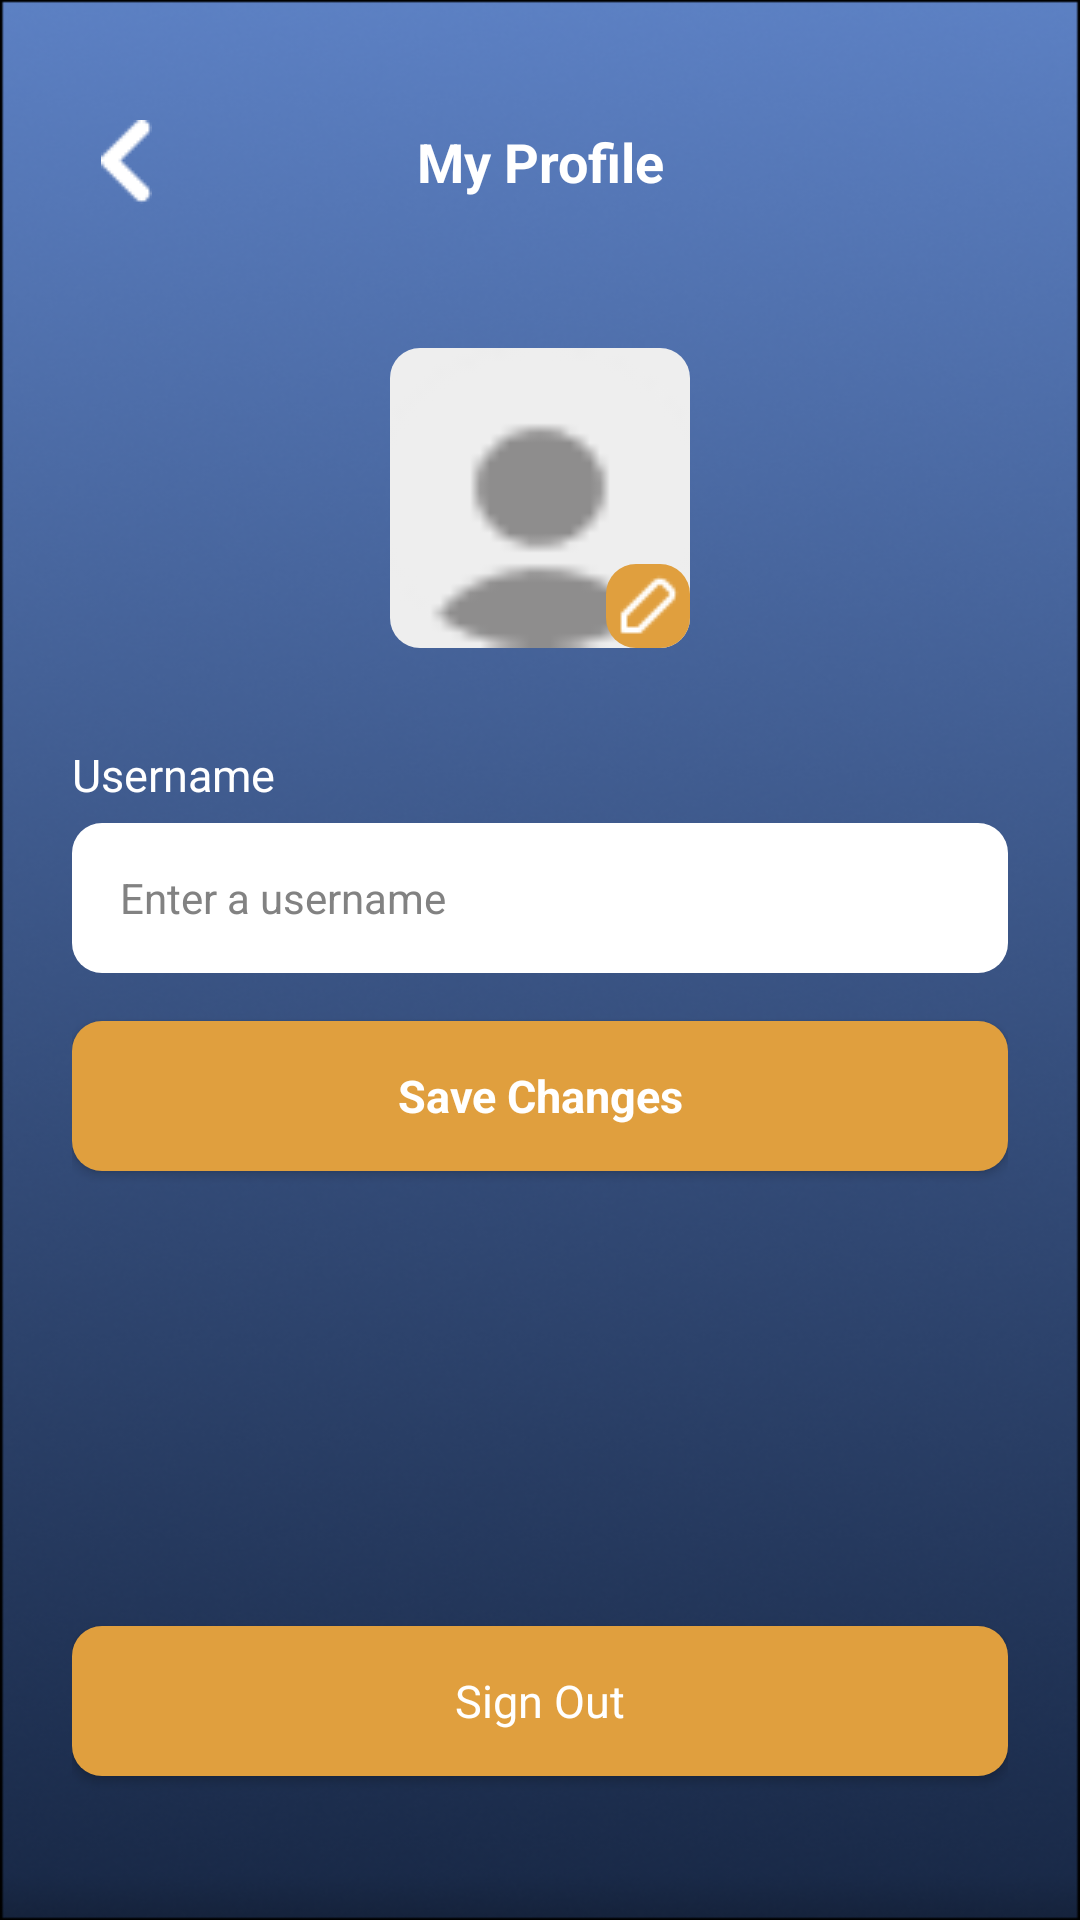

Where to tap for icons on this 1080 x 1920 app screen, as (x,y):
back: (126,161)
Edit picture: (648,606)
